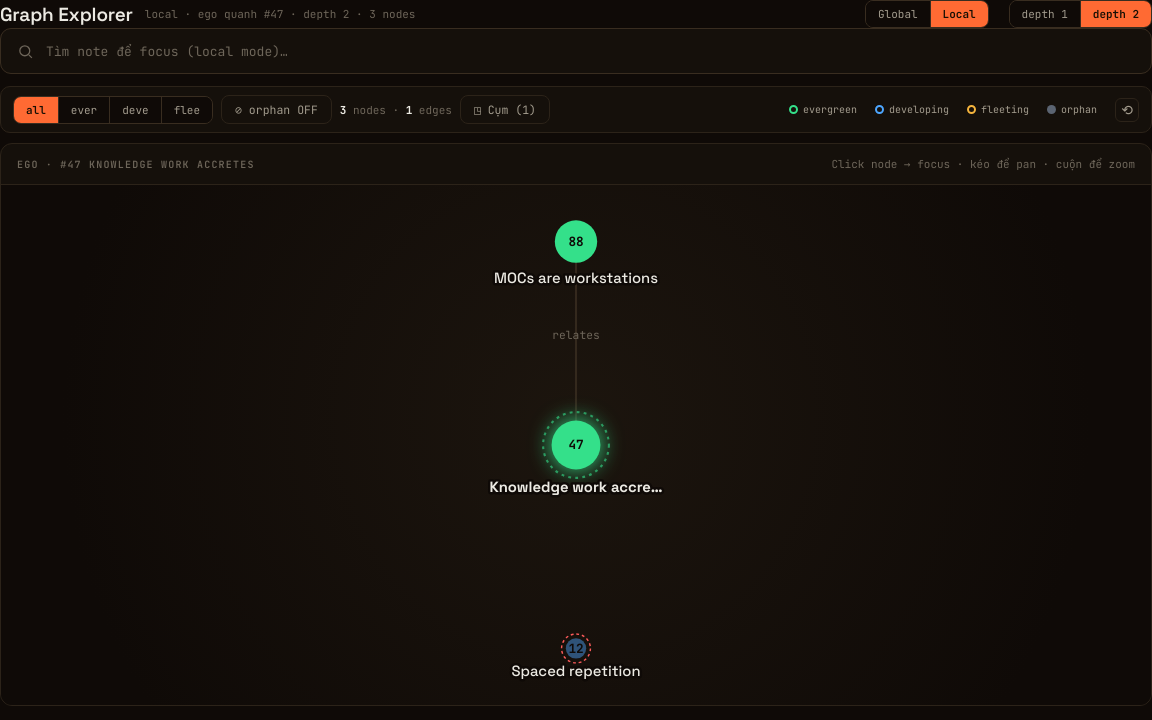
Test: W4 Graph Explorer › graph WITH a cluster renders the cluster + member chips (no crash)
Click the button with test id "graph-clusters-toggle" at (505, 110), box [460,95,550,124]
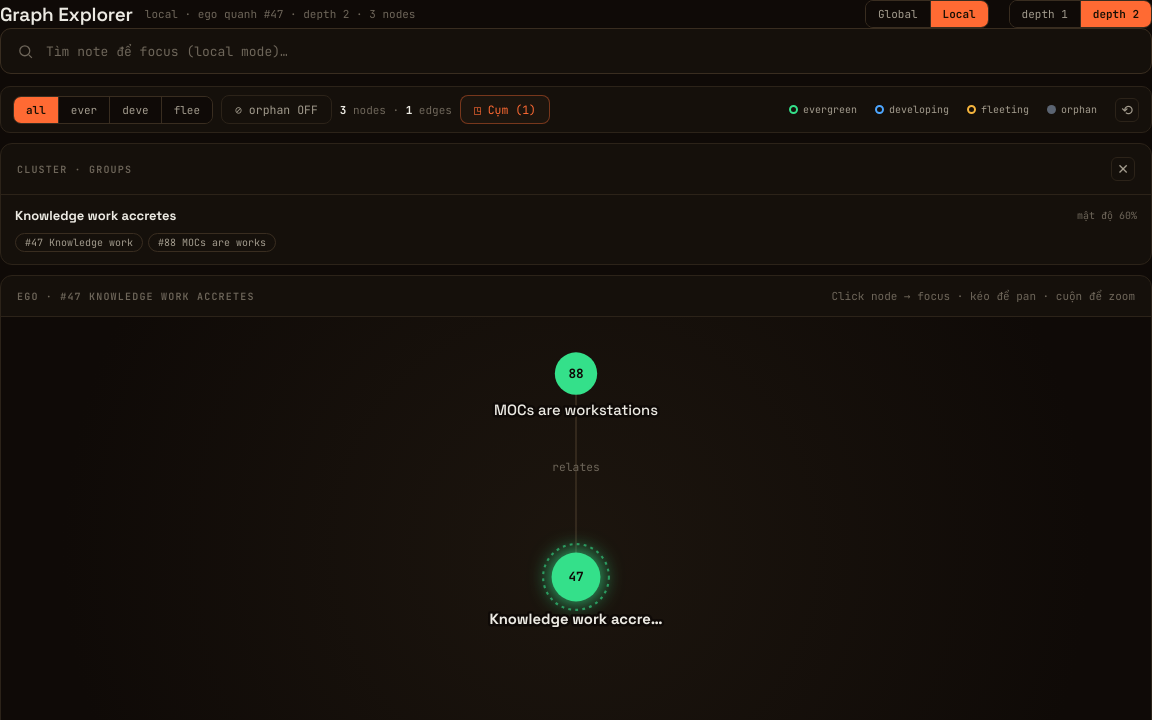
expect the element with test id "graph-cluster" shows "Knowledge work accretes": met, box [15,207,176,224]
expect the element with test id "graph-cluster" shows "#47": met, box [1,195,1151,264]
expect the element with test id "graph-cluster" shows "#88": met, box [1,195,1151,264]
